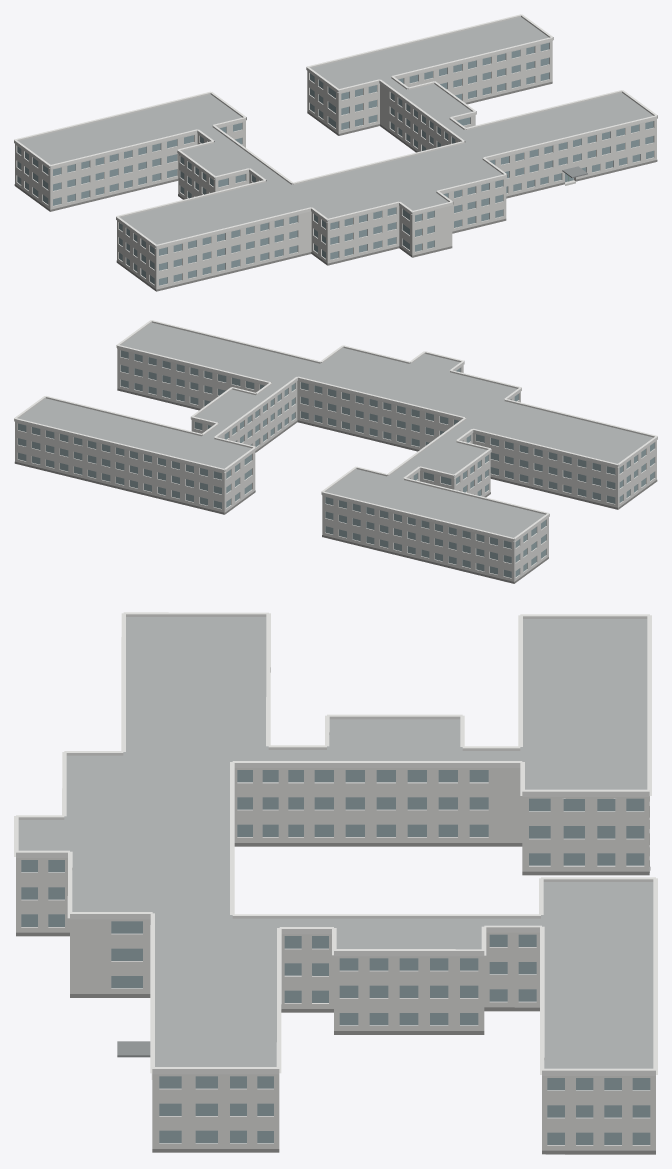
The picture shows the model from 3 angles, top to bottom: view 1: azimuth 30°, elevation 25°; view 2: azimuth 150°, elevation 25°; view 3: azimuth 270°, elevation 25°; orthographic projection. The views are drawn at different scales.
Parts seen in each view (by area): view 1: b115951825__roof, b115951825__wall, b115951825__glass, b115951825__trim, b115951825__base; view 2: b115951825__roof, b115951825__wall, b115951825__glass, b115951825__trim, b115951825__base; view 3: b115951825__roof, b115951825__wall, b115951825__glass, b115951825__trim, b115951825__base.
Part boxes in pixels (left/top/right/bottom): b115951825__roof: left=18, top=17, right=653, bottom=246; b115951825__wall: left=15, top=41, right=656, bottom=289; b115951825__glass: left=17, top=43, right=653, bottom=285; b115951825__trim: left=14, top=14, right=657, bottom=248; b115951825__base: left=14, top=81, right=657, bottom=291; b115951825__roof: left=18, top=322, right=653, bottom=539; b115951825__wall: left=15, top=348, right=656, bottom=581; b115951825__glass: left=18, top=350, right=654, bottom=577; b115951825__trim: left=14, top=320, right=657, bottom=541; b115951825__base: left=14, top=388, right=657, bottom=583; b115951825__roof: left=18, top=617, right=653, bottom=1154; b115951825__wall: left=16, top=768, right=655, bottom=1150; b115951825__glass: left=21, top=770, right=650, bottom=1144; b115951825__trim: left=14, top=612, right=657, bottom=1075; b115951825__base: left=16, top=843, right=655, bottom=1154.
Size of the model in its own units: 130 by 11.55 by 76.97.
